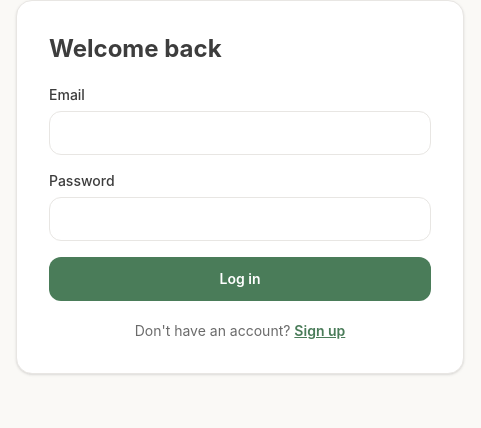
AuthForm › shows a translated message when the credentials are wrong
The image size is (481, 428).
Type "ana@example.com" into the field labelled "Email" at x=240, y=133, box [49,111,431,155]
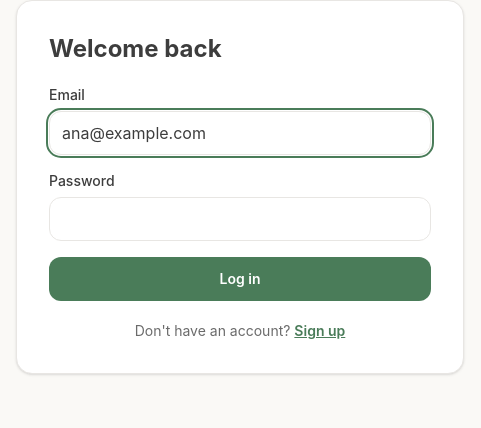
Type "wrong-password" into the password field labelled "Password" at x=240, y=219, box [49,197,431,241]
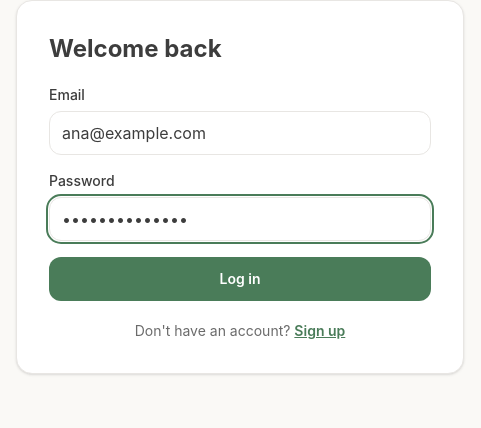
Click the button "Log in" at x=240, y=279, box [49,257,431,301]
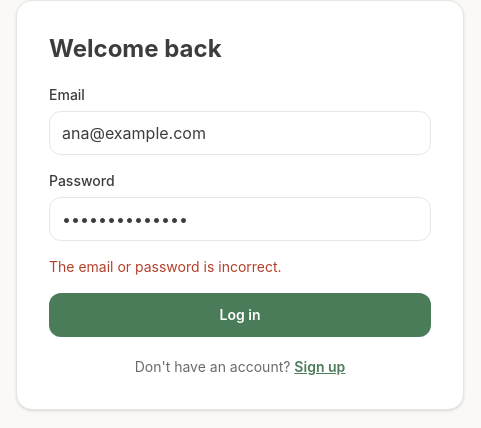
Now the message reads "The email or password is incorrect.", box [49,258,282,275]
